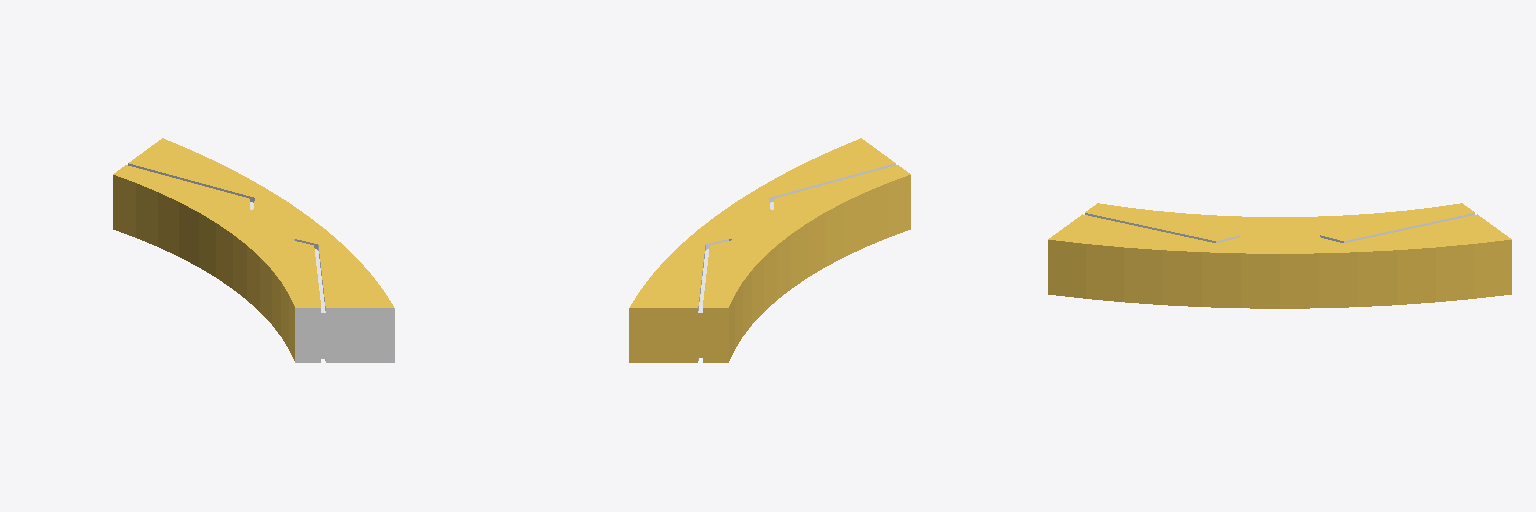
The picture shows the model from 3 angles: view 1: azimuth 30°, elevation 25°; view 2: azimuth 150°, elevation 25°; view 3: azimuth 270°, elevation 25°; orthographic projection.
Visible parts, largest first — view 1: Mesh1 sw3_1 Model; view 2: Mesh1 sw3_1 Model; view 3: Mesh1 sw3_1 Model.
Boxes of the visible parts, x1=… form: Mesh1 sw3_1 Model: x1=113, y1=138, x2=394, y2=362; Mesh1 sw3_1 Model: x1=629, y1=138, x2=910, y2=362; Mesh1 sw3_1 Model: x1=1048, y1=203, x2=1511, y2=308.
Size of the model in its own units: 197 by 99.8 by 764.